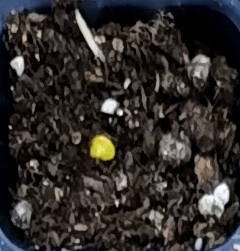pepper seed: (31, 53, 147, 215)
